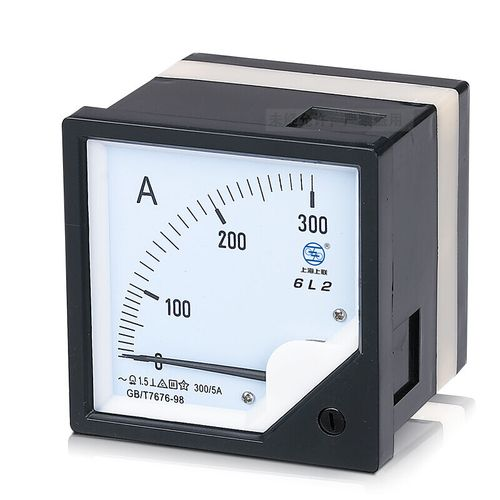pointer: (76, 132, 361, 441)
